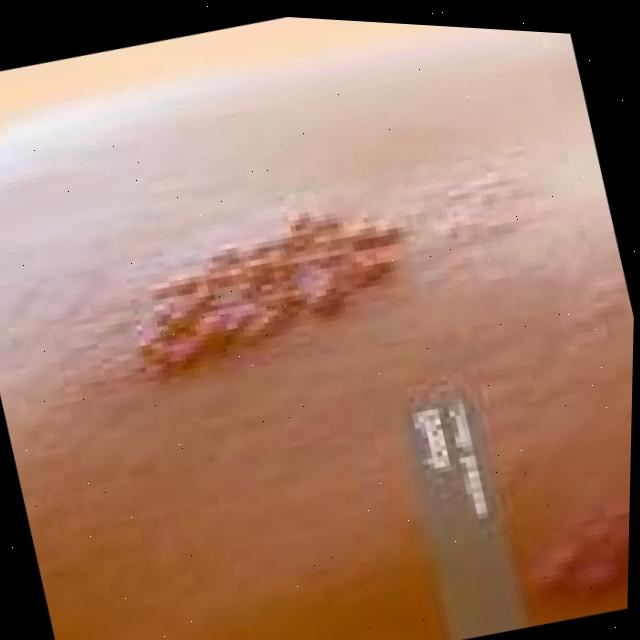Shingles: (110, 193, 381, 378)
